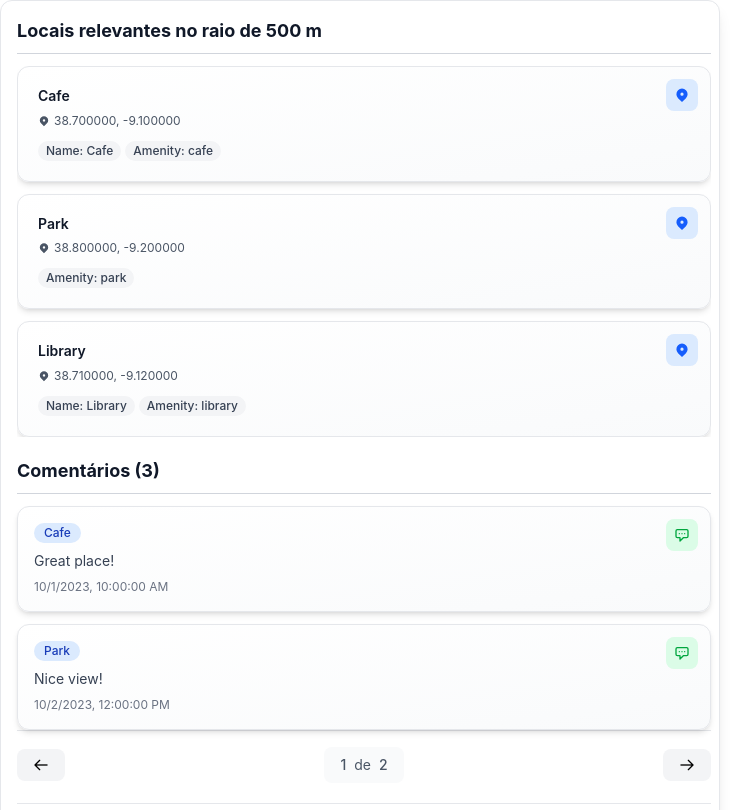
LeftColumn Component › handles pagination correctly
Expected: the text "1" is shown, [340,754,346,774]
Expected: the text "de" is shown, [354,754,371,774]
Click the 2nd button with alt text "Next" at [687, 764], box [663,748,711,780]
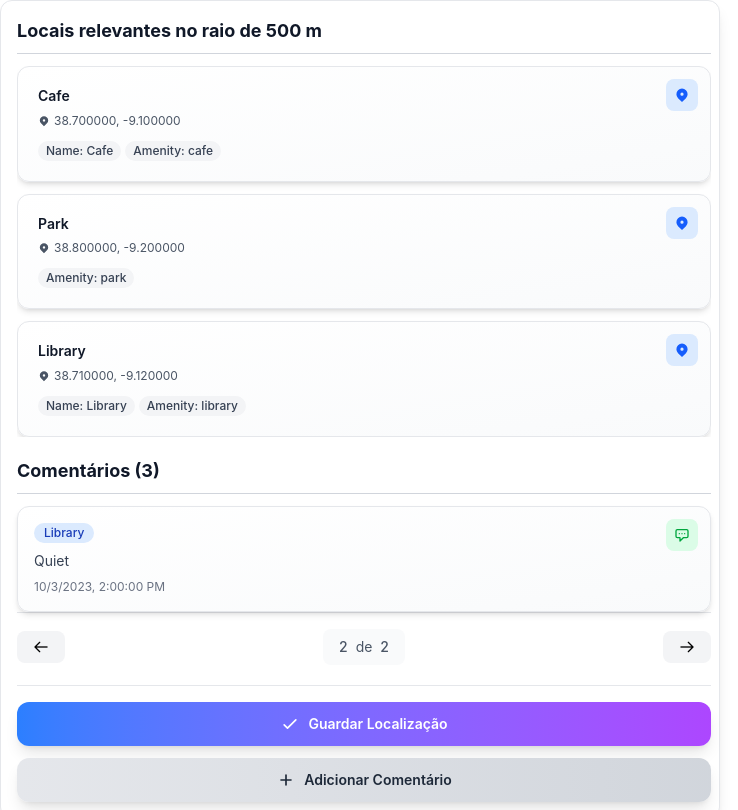
Now the text "Quiet" is shown, box [34,552,69,568]
Now the text "Great place!" is gone
Now the text "Nice view!" is gone
